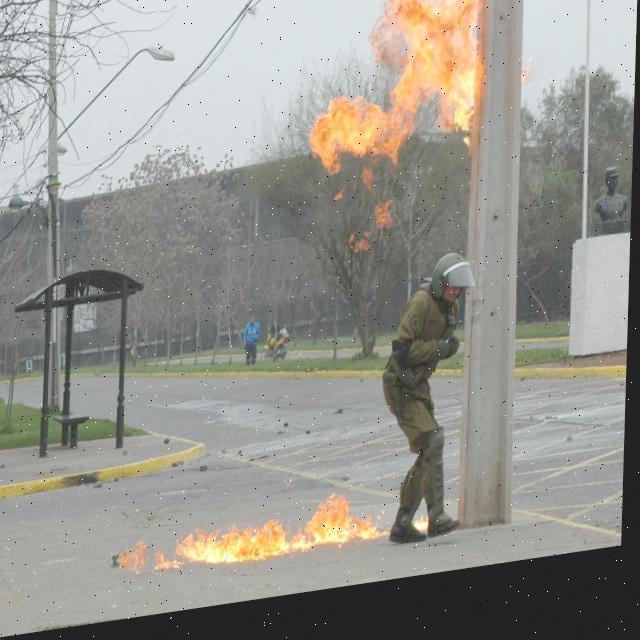Fire: (309, 0, 482, 181), (130, 498, 397, 584)
